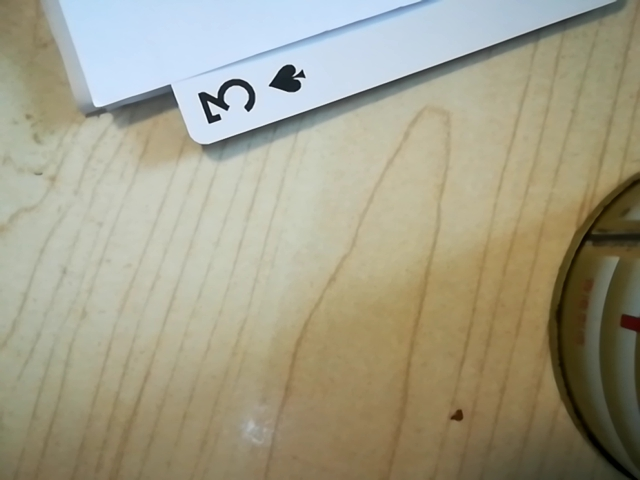ht 3: (180, 51, 318, 140)
